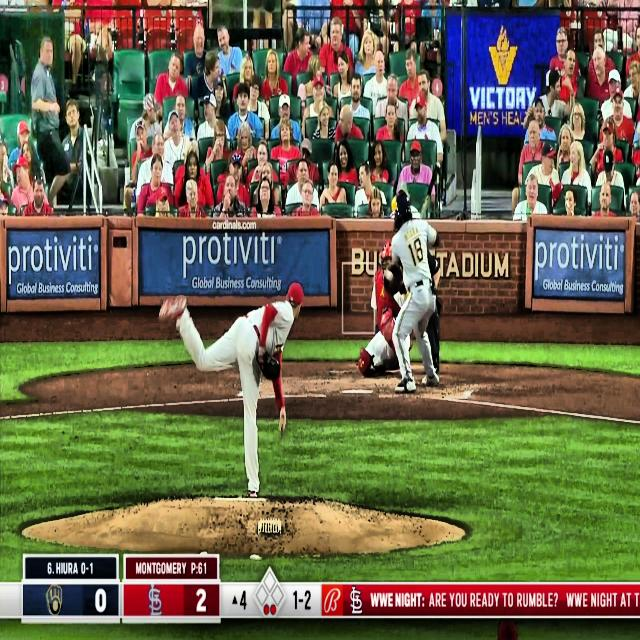baseball: (384, 268, 394, 282)
